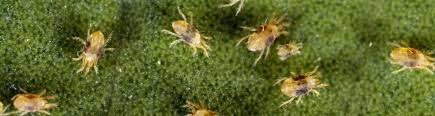Mites: (67, 26, 112, 81), (167, 11, 213, 63), (273, 66, 328, 107), (384, 41, 434, 78), (239, 16, 277, 59), (11, 85, 60, 116)
